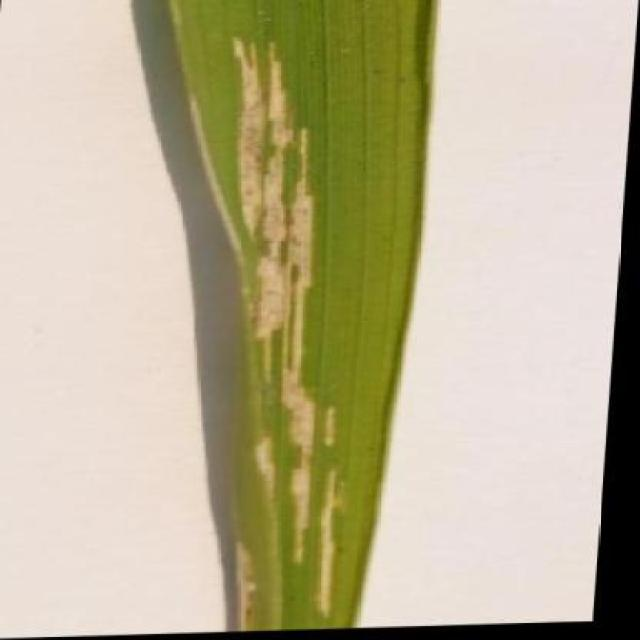Brown_Spot: (146, 24, 397, 631)
